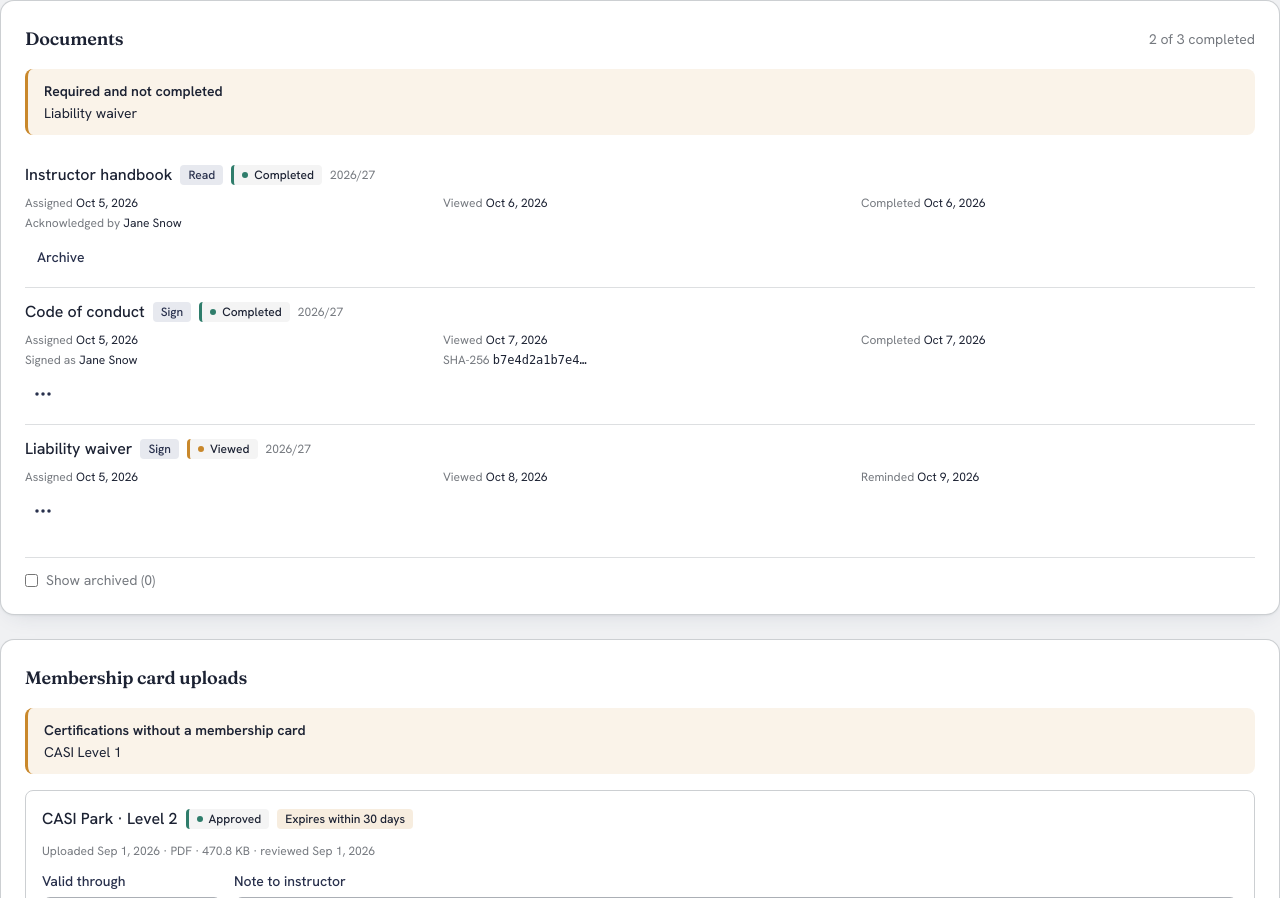
Test case: InstructorDocumentsSection — documents › collapses two or more row actions into a menu and keeps a lone one as a button
Expected: the button named "Archive" is shown, [25, 239, 96, 275]
Click the button named "More actions for Code of conduct" at [43, 394], box [25, 376, 61, 412]
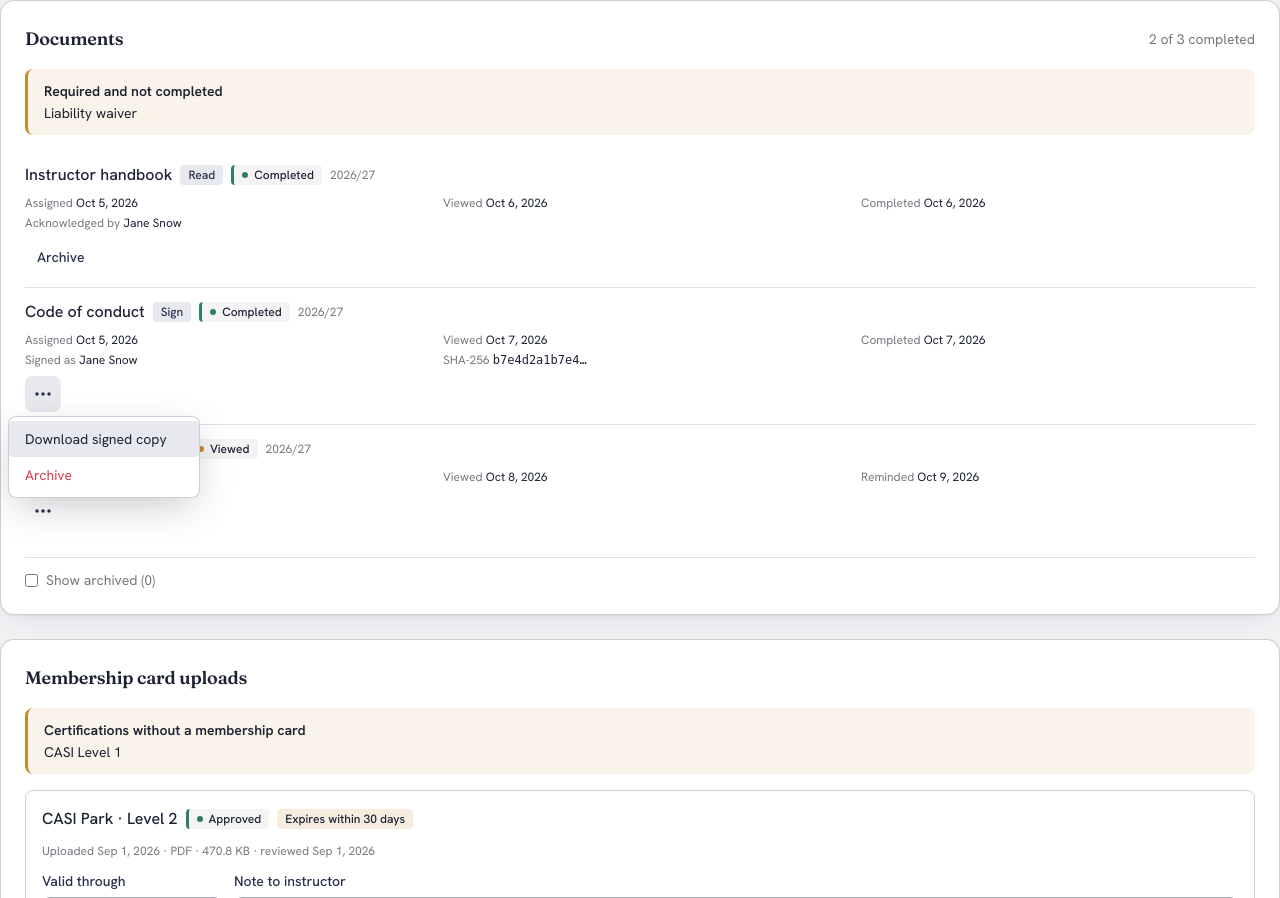
Result: the menu items read "Download signed copy", "Archive", in this order at [9, 421, 199, 457]; [9, 457, 199, 493]
